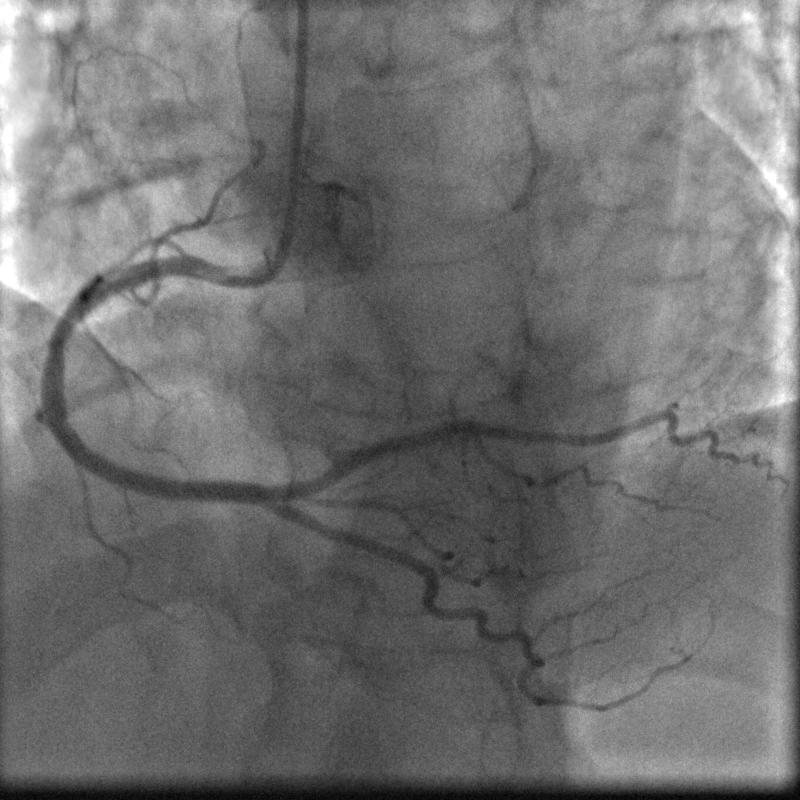Stenosis: (42, 312, 72, 363)
